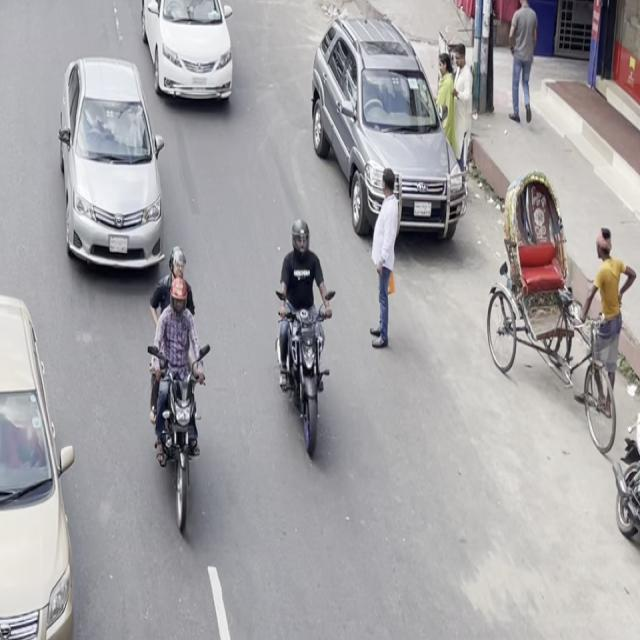car: (309, 2, 467, 252), (0, 267, 97, 636), (52, 42, 172, 286), (137, 0, 240, 119)
motorbike: (134, 239, 221, 541), (266, 213, 343, 459)
